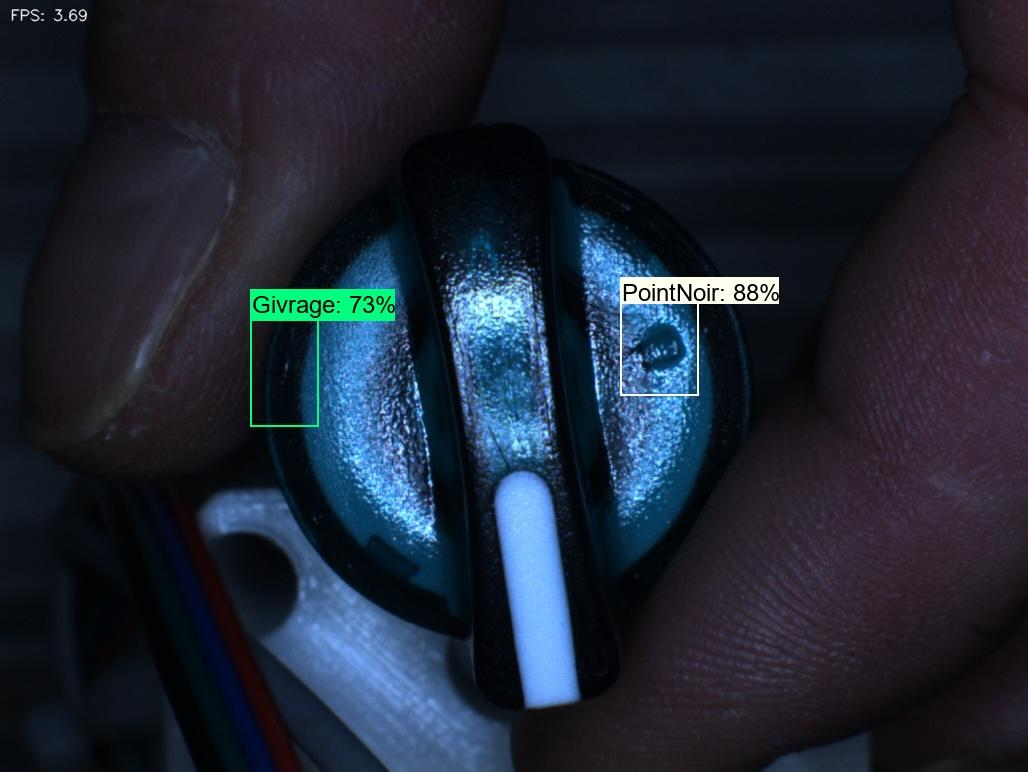Choc: (607, 302, 702, 399)
